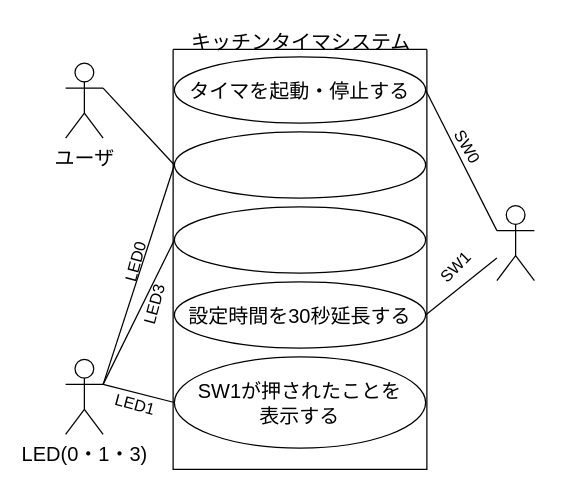
Some shapes in this 580 by 491 pixel diagram are drawn without their labels. The shapes that lost their labels are listed below. From the top down, each one's centre as x and y in pixels, then its label:
At pixel 299 164: "LED0を点灯する".
At pixel 299 239: "タイマの動きを表示する".
At pixel 515 242: "SW(0・1)".
